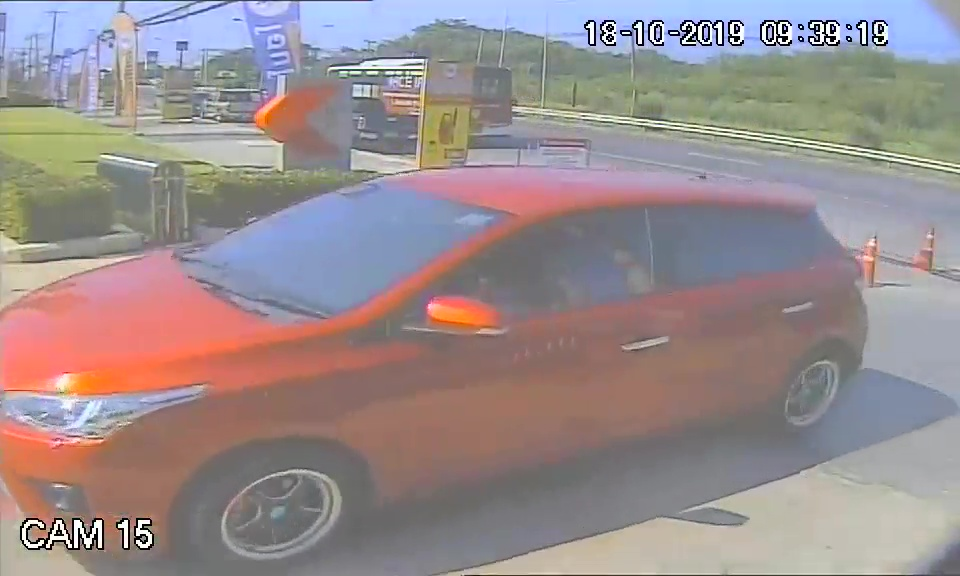sedan: (15, 162, 862, 553)
